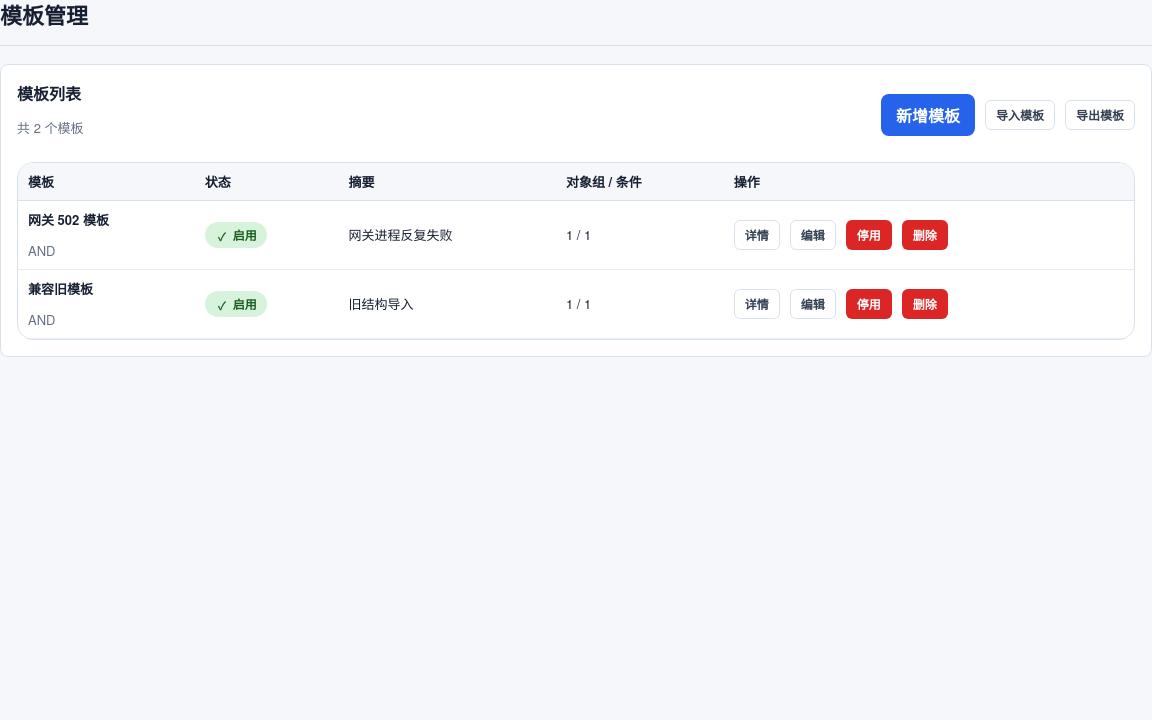
Test case: TemplatesPage › shows preview summary and explicit validation message before save
Click the button "新增模板".
click(928, 115)  # box [881,94,975,136]
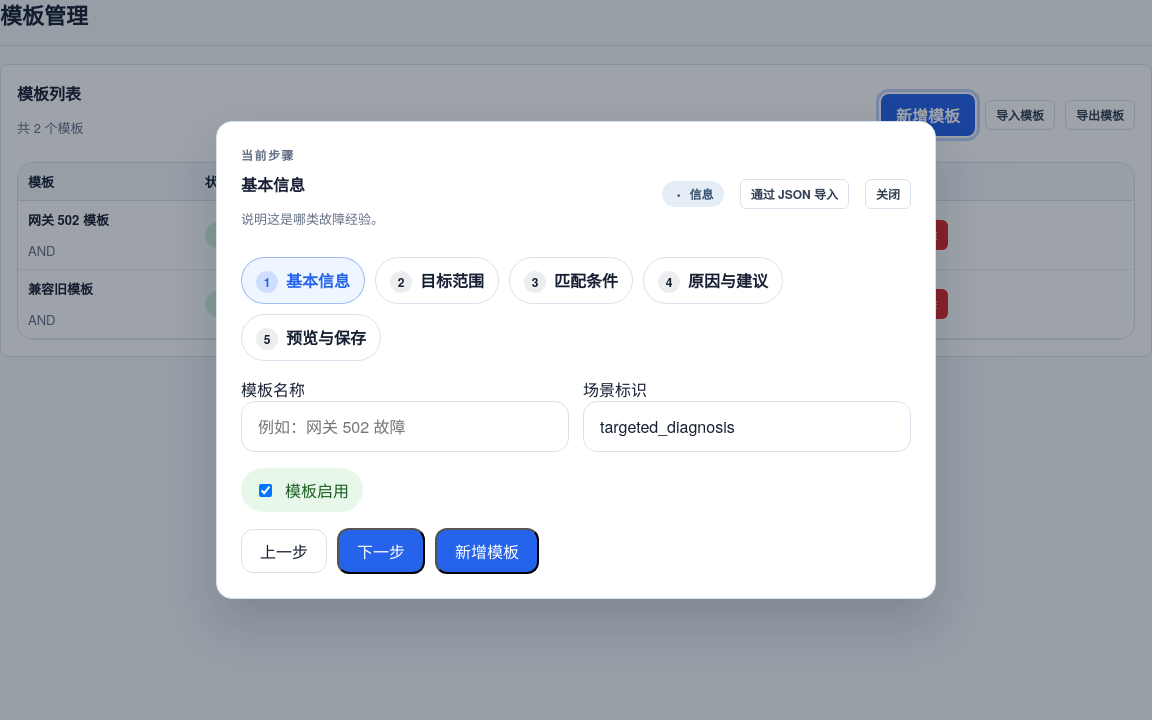
Click the button "5 预览与保存".
click(311, 338)  # box [241,314,381,361]
(page scrolled)
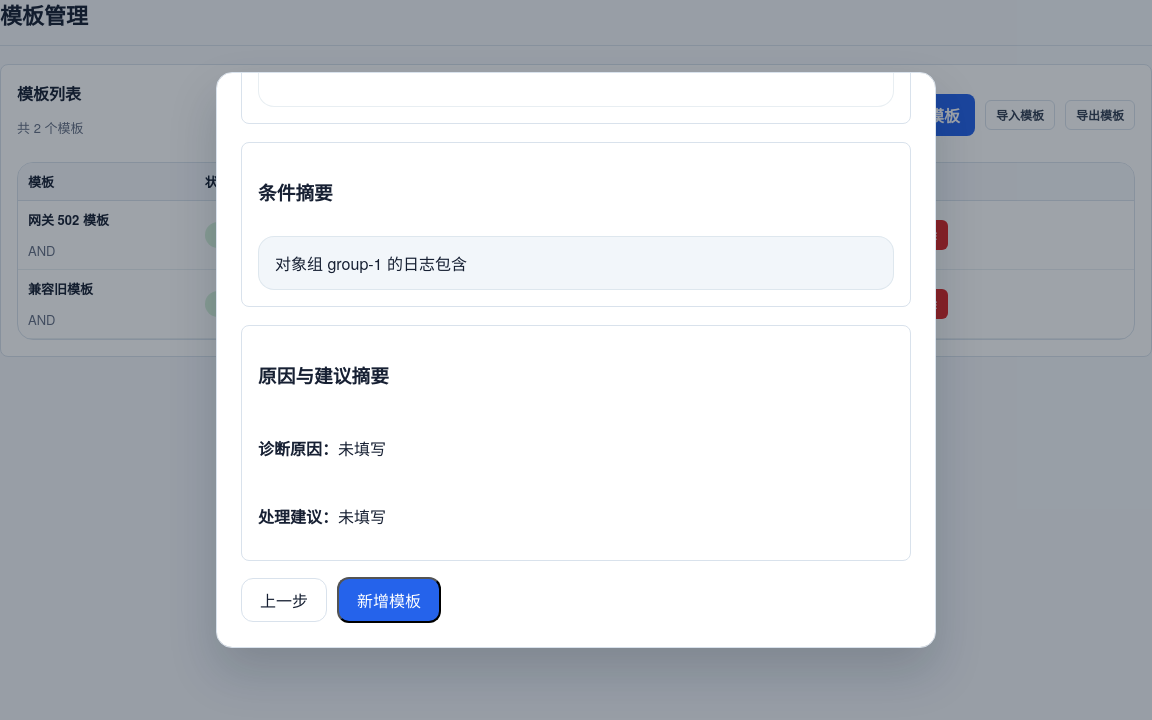
Click the button "新增模板".
click(389, 600)  # box [337,577,441,623]
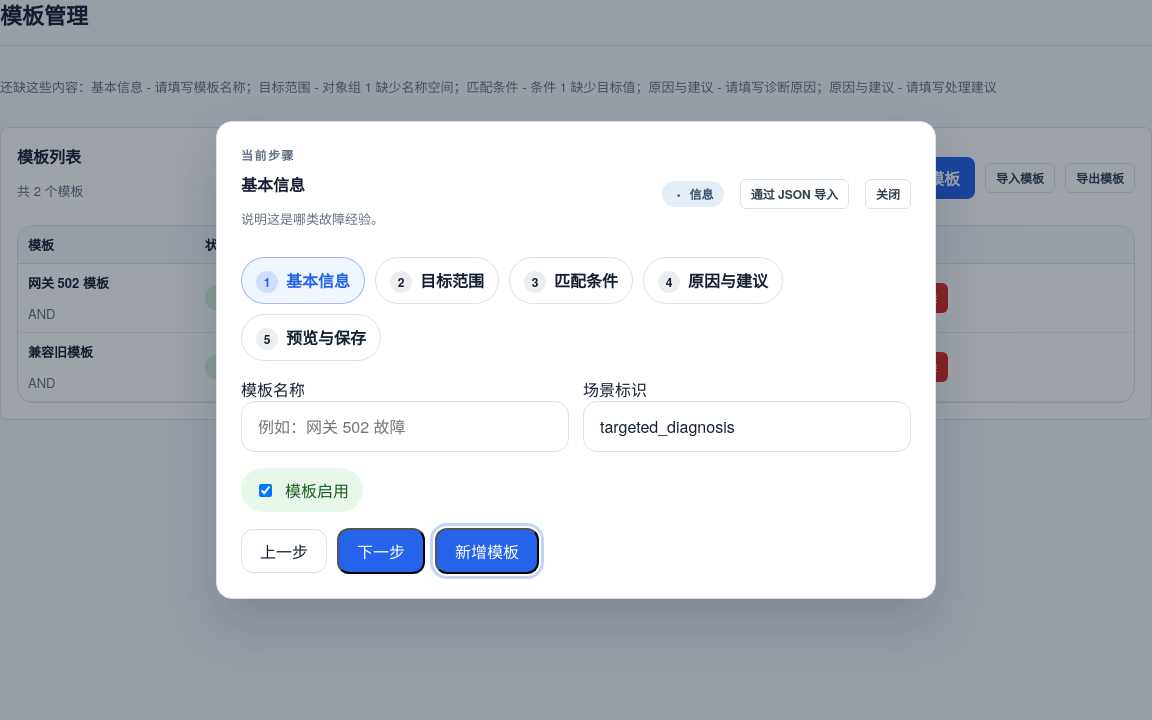
Now the text "基本信息 - 请填写模板名称" is shown, box [0,77,997,96]
